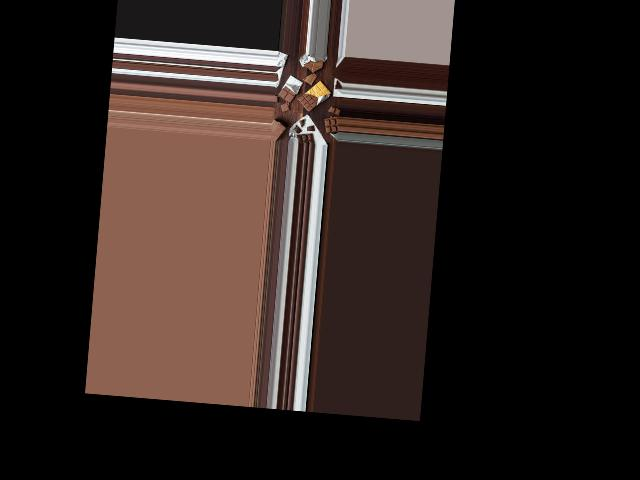chocolate: (275, 75, 304, 103)
